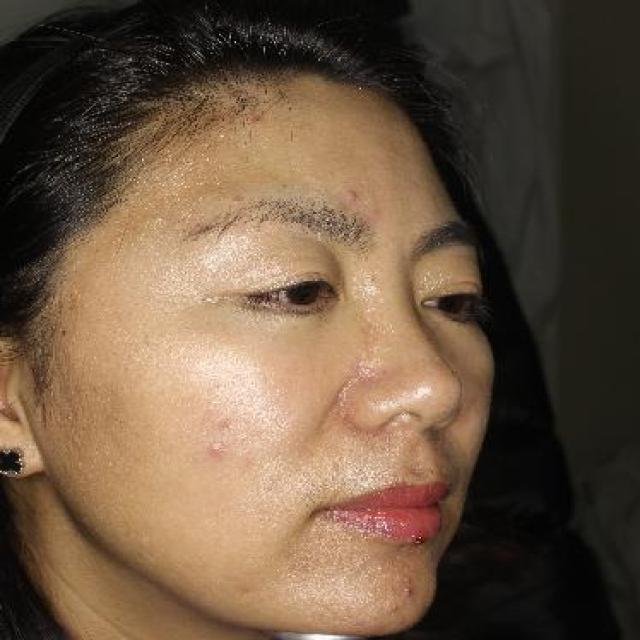blackheads: (388, 602, 408, 616), (404, 586, 419, 599), (402, 576, 418, 586)
dark spot: (210, 417, 234, 429)
papules: (202, 442, 228, 458), (342, 186, 364, 203)
